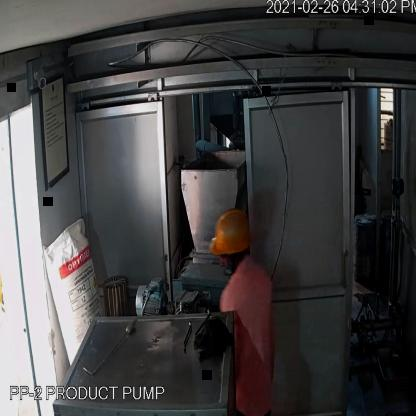helmet: (202, 202, 262, 259)
